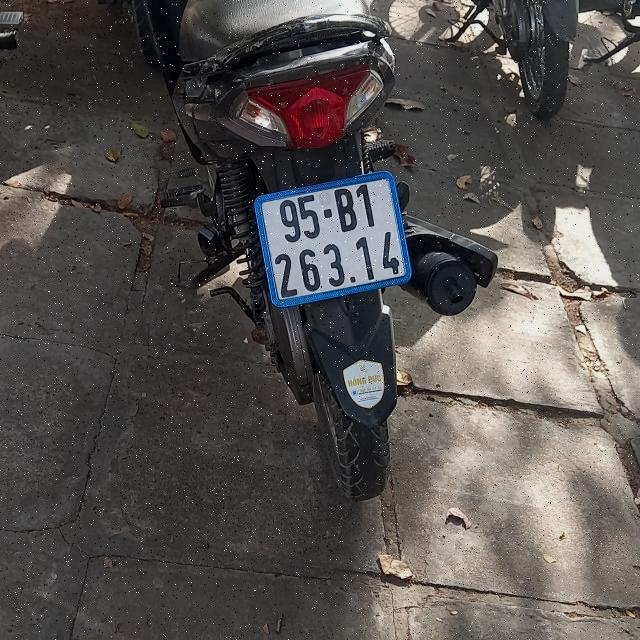1: (353, 235, 377, 283), (356, 182, 377, 231)
2: (274, 250, 298, 300)
3: (322, 242, 346, 292)
4: (380, 229, 404, 279)
5: (299, 194, 322, 240)
6: (298, 247, 322, 293)
9: (279, 198, 301, 242)
B: (333, 186, 359, 234)
